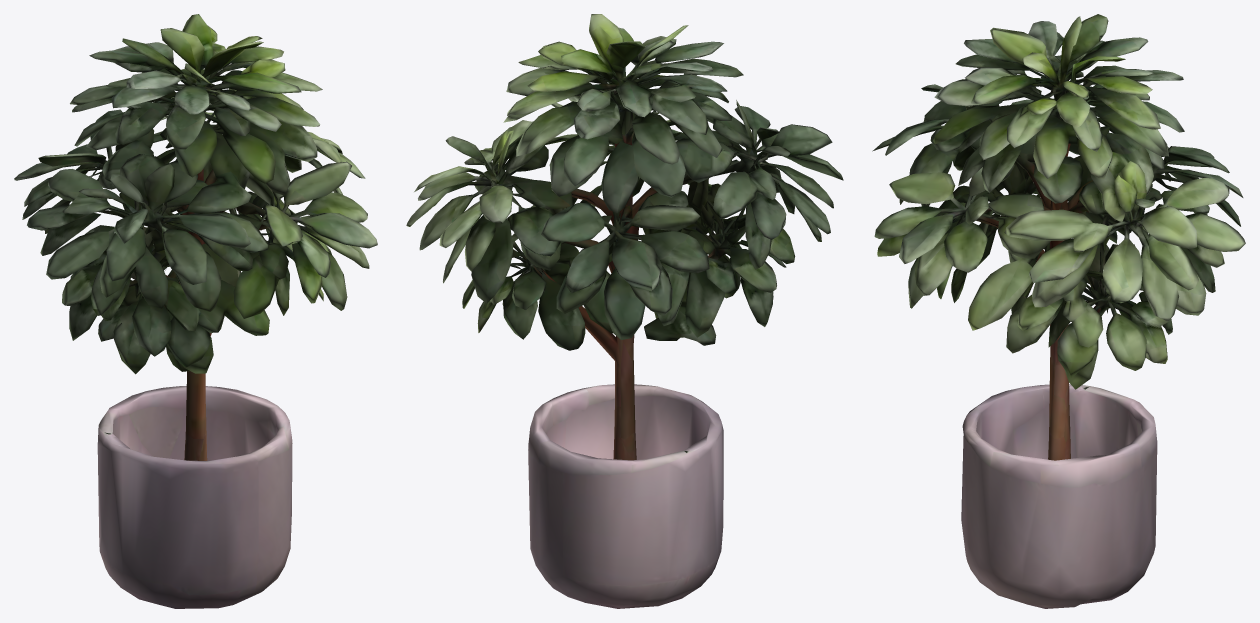
Rendered from indoor_plant.glb.
The picture shows the model from 3 angles, left to right: view 1: azimuth 30°, elevation 25°; view 2: azimuth 150°, elevation 25°; view 3: azimuth 270°, elevation 25°; orthographic projection.
Visible parts, largest first — view 1: tripo_node_054b0eef-21db-4d25-9ab7-3908884b81b1; view 2: tripo_node_054b0eef-21db-4d25-9ab7-3908884b81b1; view 3: tripo_node_054b0eef-21db-4d25-9ab7-3908884b81b1.
Boxes of the visible parts, bbox=[...] form: tripo_node_054b0eef-21db-4d25-9ab7-3908884b81b1: bbox=[14, 14, 377, 608]; tripo_node_054b0eef-21db-4d25-9ab7-3908884b81b1: bbox=[406, 14, 843, 608]; tripo_node_054b0eef-21db-4d25-9ab7-3908884b81b1: bbox=[872, 14, 1245, 608].
Bounding box in the file's own units: 0.6537 × 0.9788 × 0.6028.
Materials: 1 (1 with a texture image).
